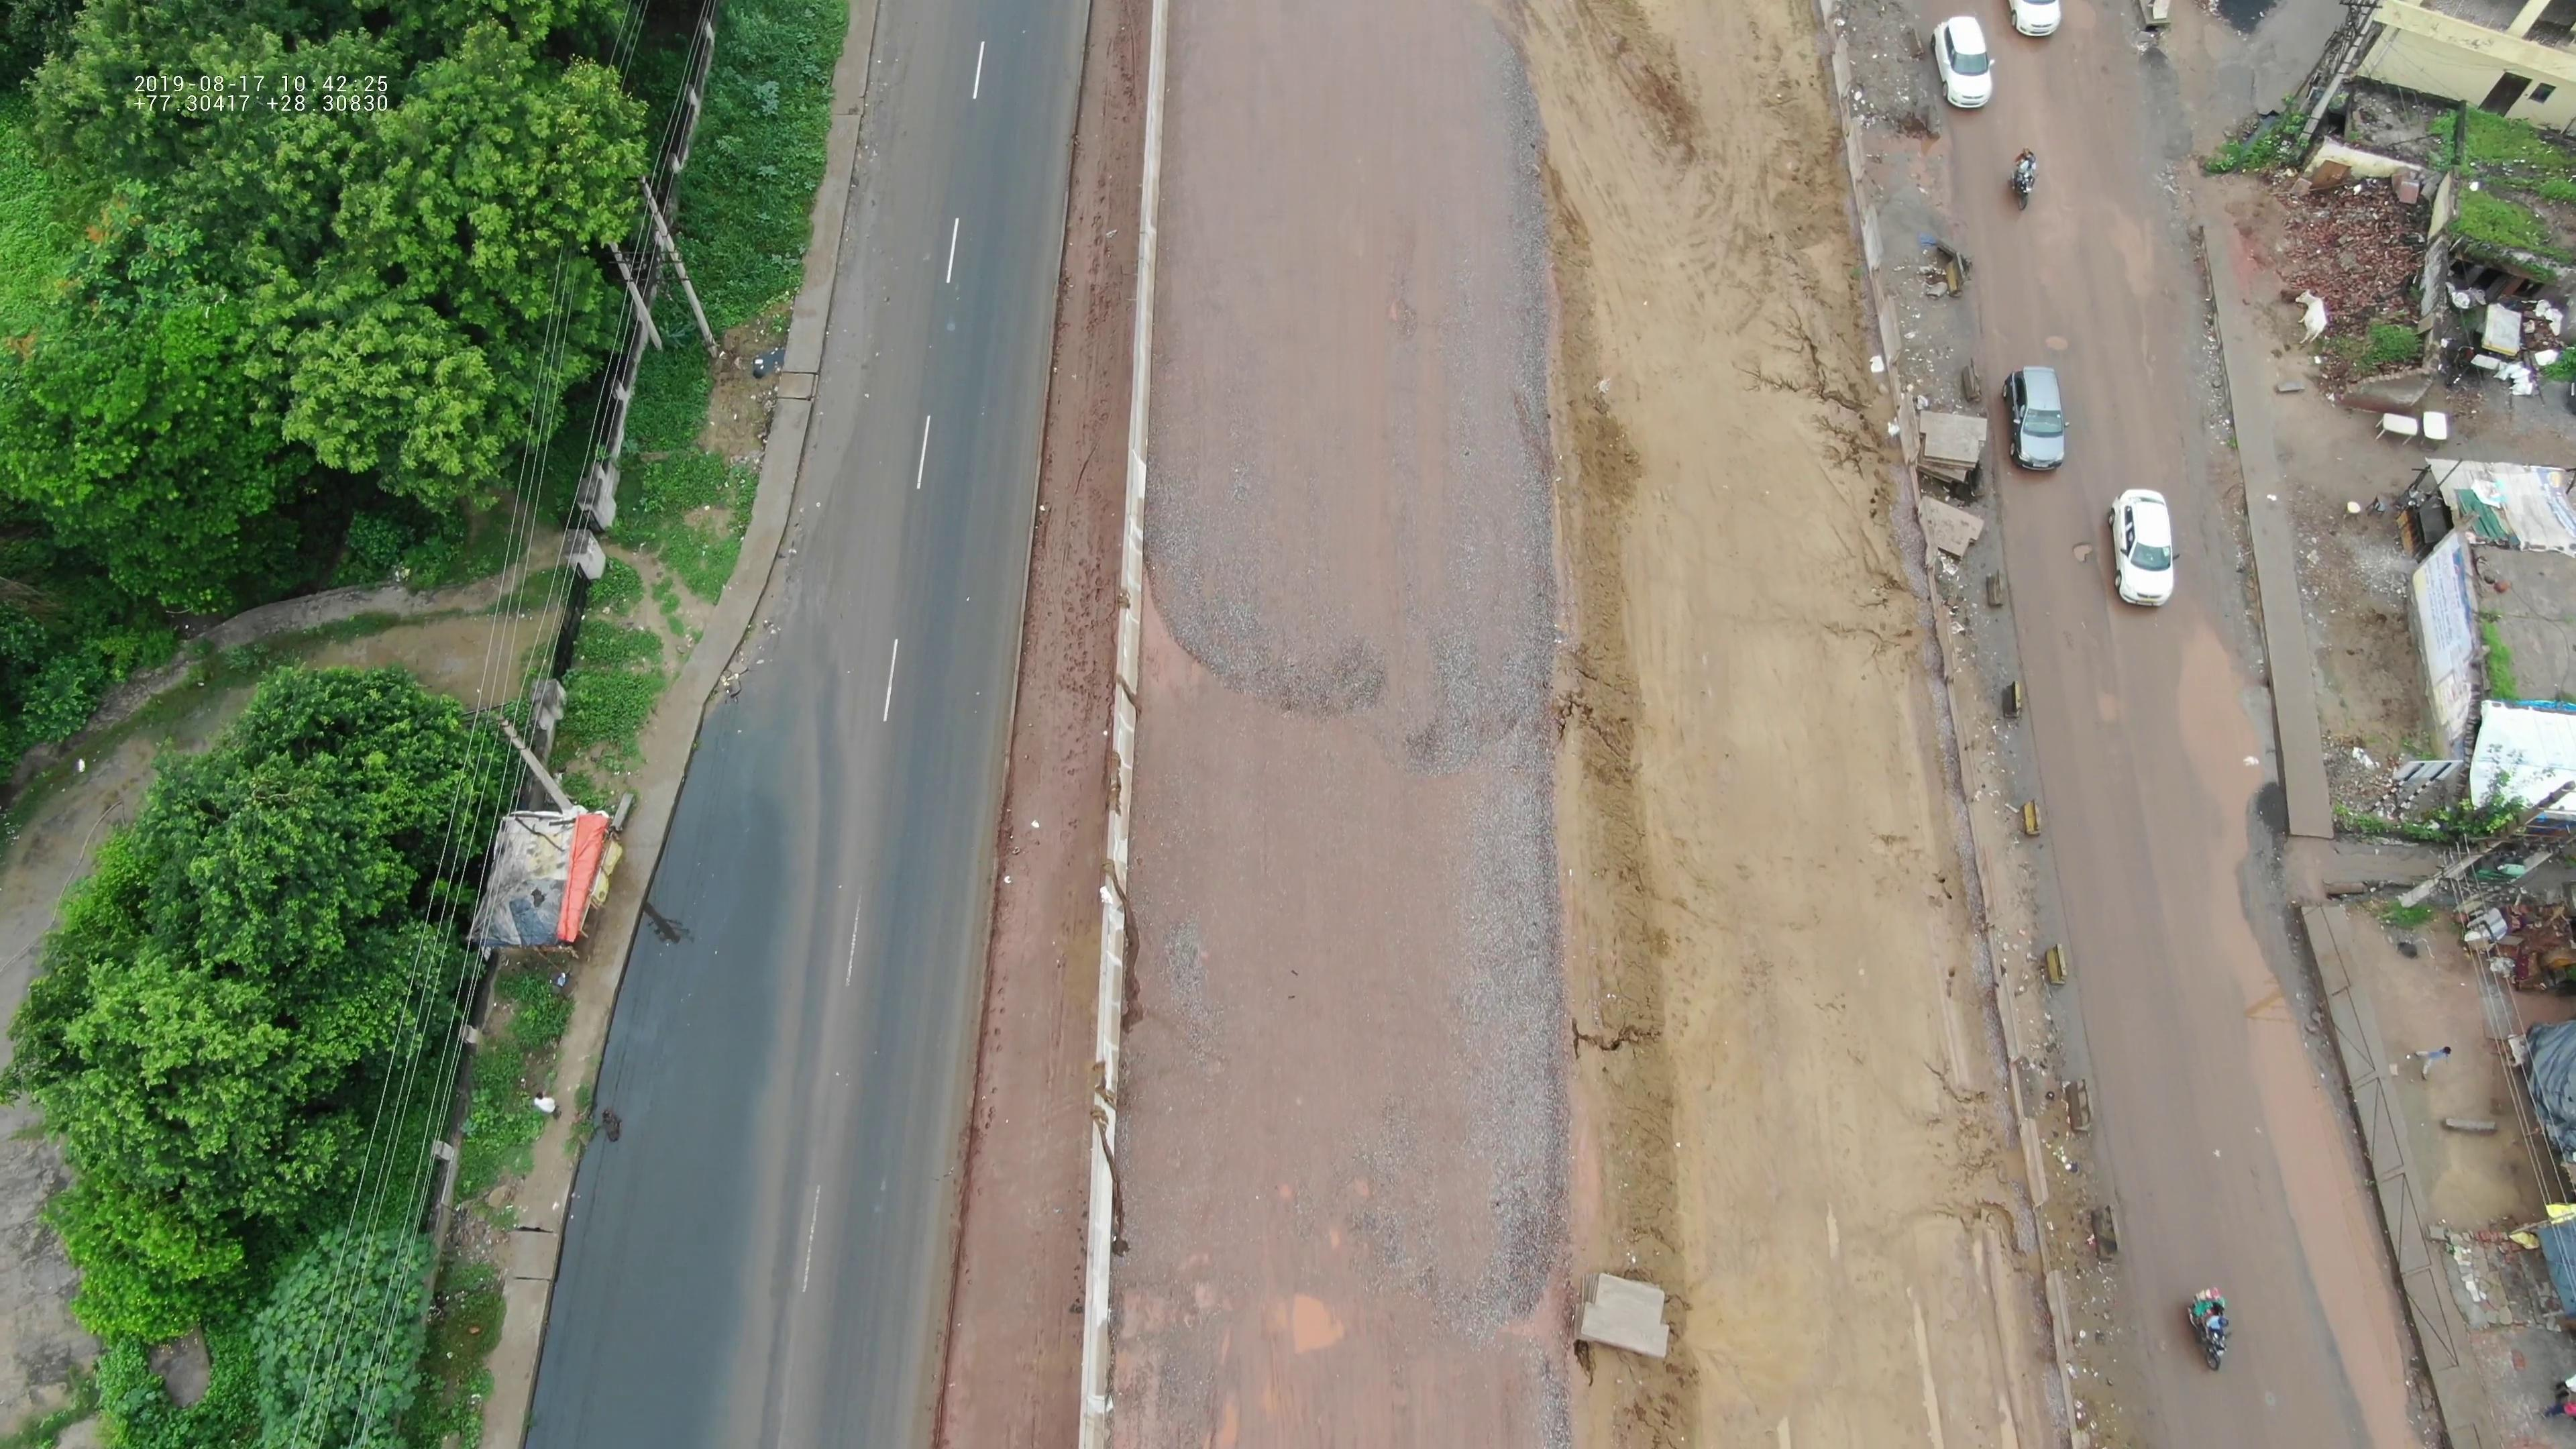Potholes: (2070, 610, 2143, 805), (2047, 525, 2109, 609), (2020, 320, 2104, 380)
Waterlogging: (2254, 1023, 2401, 1415)
